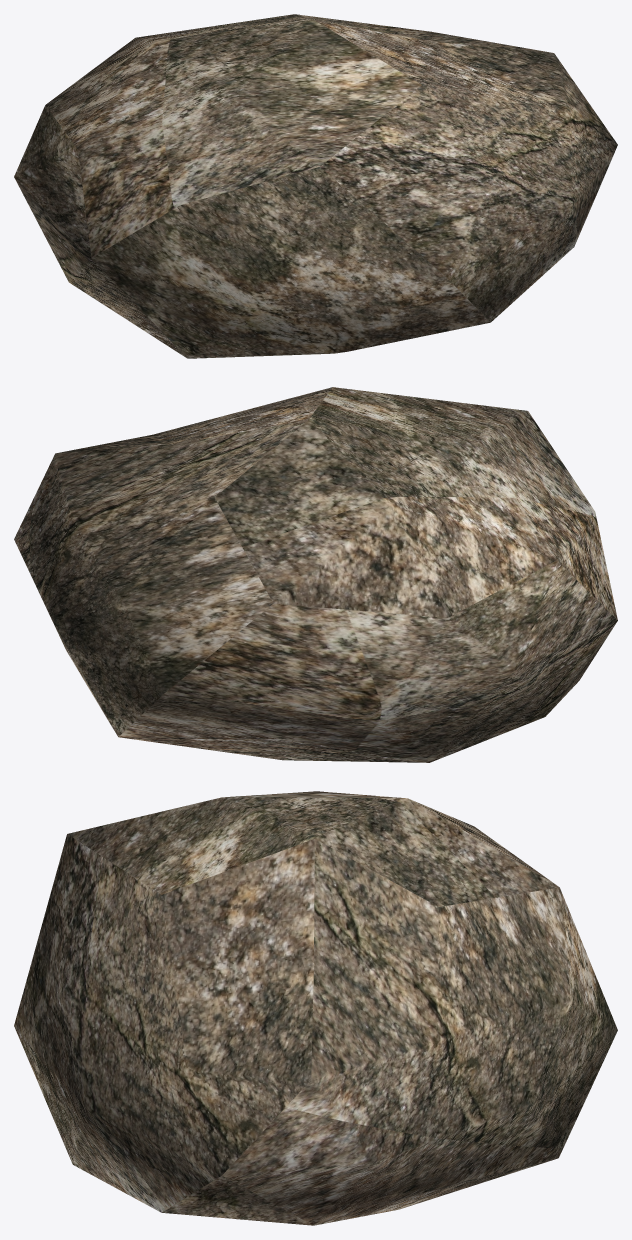
The model's file is Rock6_100.obj.
The picture shows the model from 3 angles, top to bottom: view 1: azimuth 30°, elevation 25°; view 2: azimuth 150°, elevation 25°; view 3: azimuth 270°, elevation 25°; orthographic projection. The views are drawn at different scales.
Visible parts, largest first — view 1: Icosphere.002; view 2: Icosphere.002; view 3: Icosphere.002.
Part boxes in pixels (box(x1,y1,x2,y2)): Icosphere.002: box(14, 14, 617, 358); Icosphere.002: box(14, 387, 617, 762); Icosphere.002: box(14, 791, 617, 1225).
Bounding box in the file's own units: 2.57 × 1.35 × 2.21.
